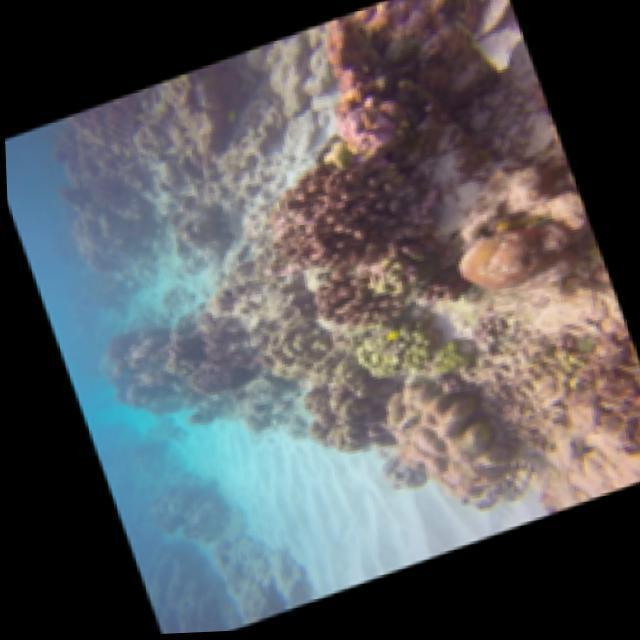Dead Coral: (363, 368, 521, 552), (150, 302, 258, 423)
